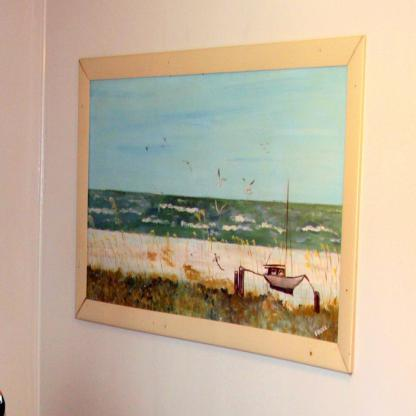Picture-frame: (70, 40, 367, 379)
